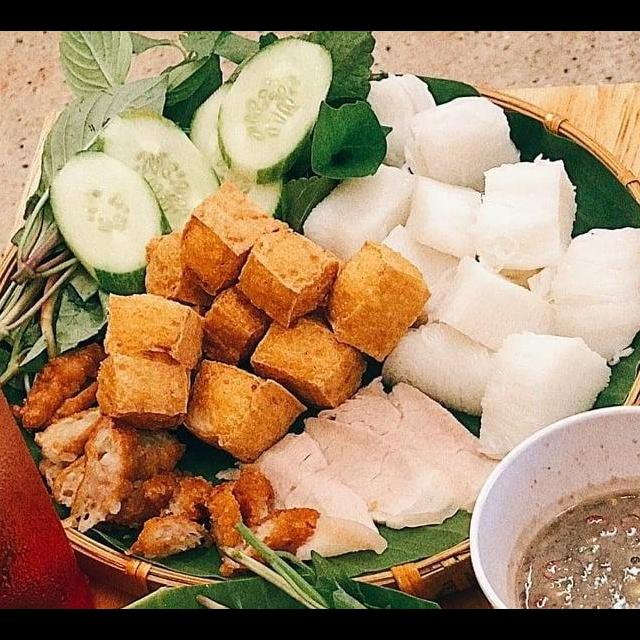bun: (296, 70, 640, 469)
bun dau: (0, 65, 640, 609)
cha com: (28, 396, 196, 557), (125, 457, 326, 586), (5, 337, 106, 449)
dau hu: (86, 285, 218, 427), (178, 356, 316, 468), (238, 308, 376, 417), (321, 236, 434, 366), (174, 178, 288, 298), (232, 220, 348, 330), (186, 278, 272, 376), (142, 229, 228, 309)
thit heo: (314, 369, 516, 519), (298, 413, 476, 532), (240, 426, 392, 563)
